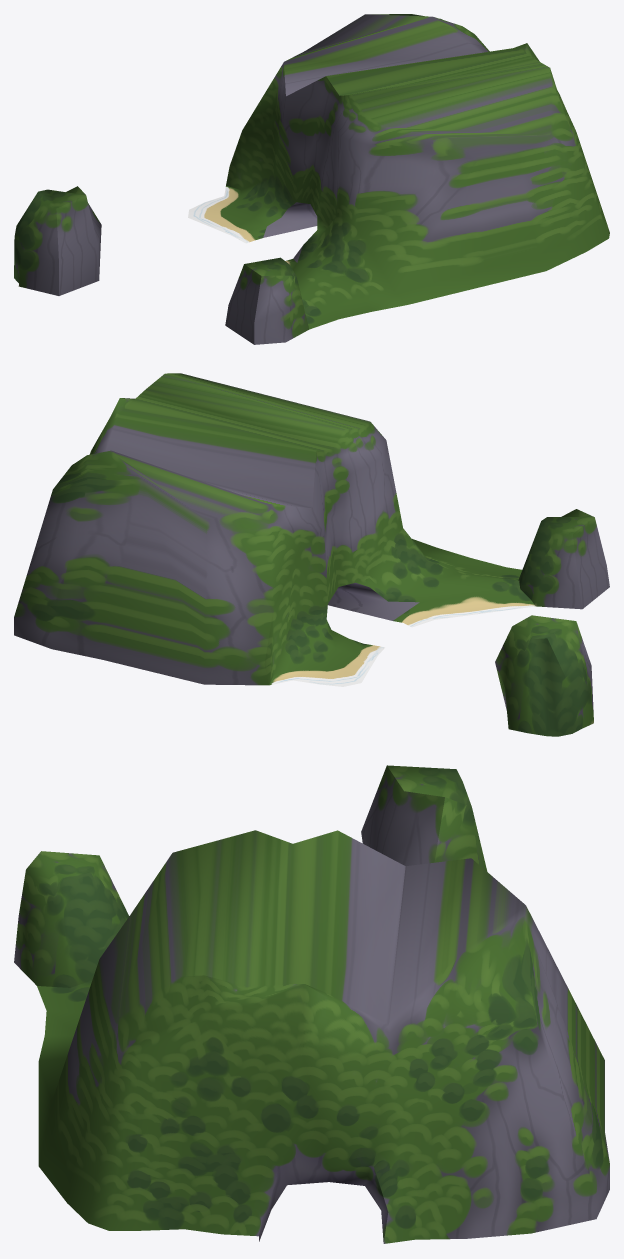
File: island3.fbx
The picture shows the model from 3 angles, top to bottom: view 1: azimuth 30°, elevation 25°; view 2: azimuth 150°, elevation 25°; view 3: azimuth 270°, elevation 25°; orthographic projection. The views are drawn at different scales.
Parts seen in each view (by area): view 1: island3; view 2: island3; view 3: island3.
Boxes of the visible parts, <box> form: island3: <box>14,14,609,344</box>; island3: <box>14,373,609,736</box>; island3: <box>14,765,609,1243</box>.
Bounding box in the file's own units: 1959 × 611 × 1280.
